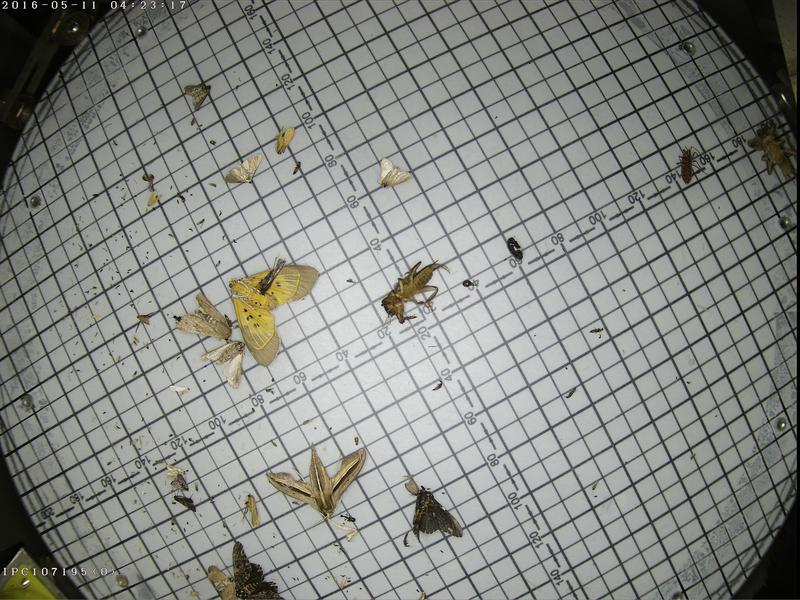Gryllotalpa orientalis: (379, 257, 450, 331), (744, 121, 795, 178)
Spodoptera litura: (199, 336, 246, 389)
Stem borer: (379, 156, 410, 186)
